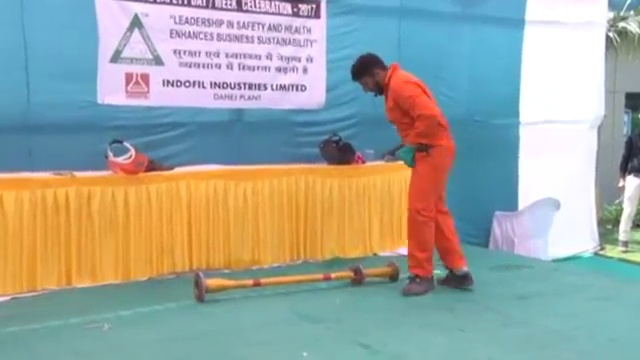helmet_off: (349, 51, 391, 97)
person: (348, 51, 475, 295), (614, 118, 640, 257)
